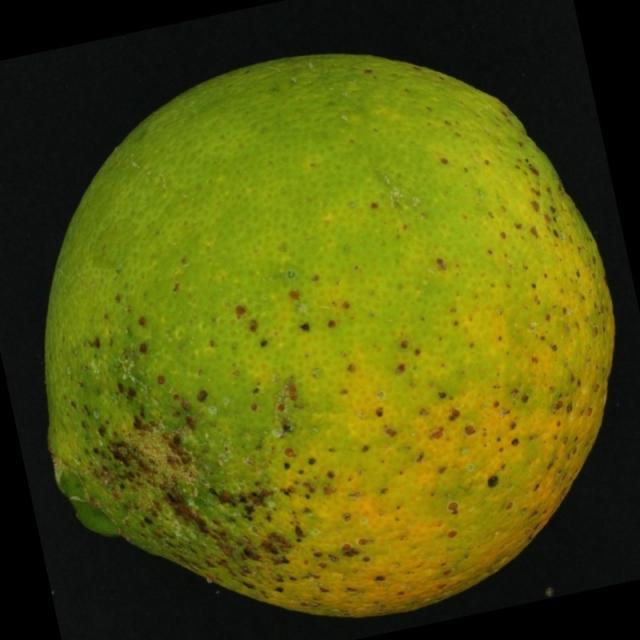grenning: (20, 26, 633, 630)
